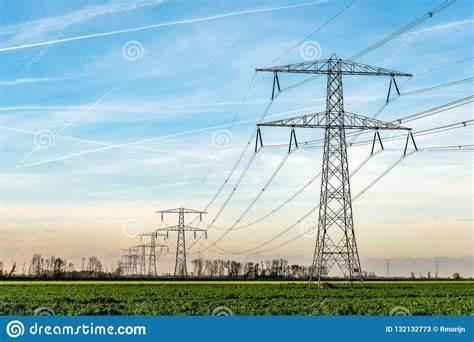power_tower: (247, 49, 416, 298), (154, 202, 207, 284)
